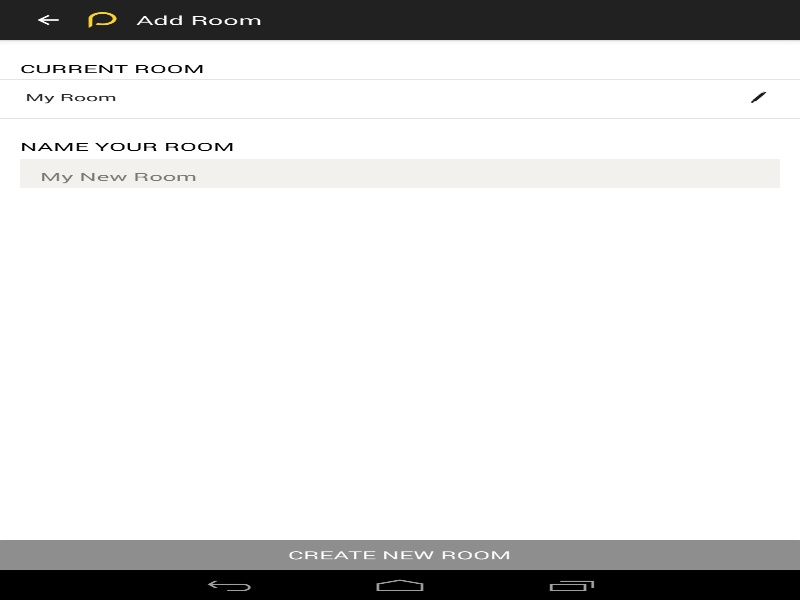Button: (0, 540, 800, 570), (10, 2, 85, 37)
Input: (20, 159, 780, 187)
